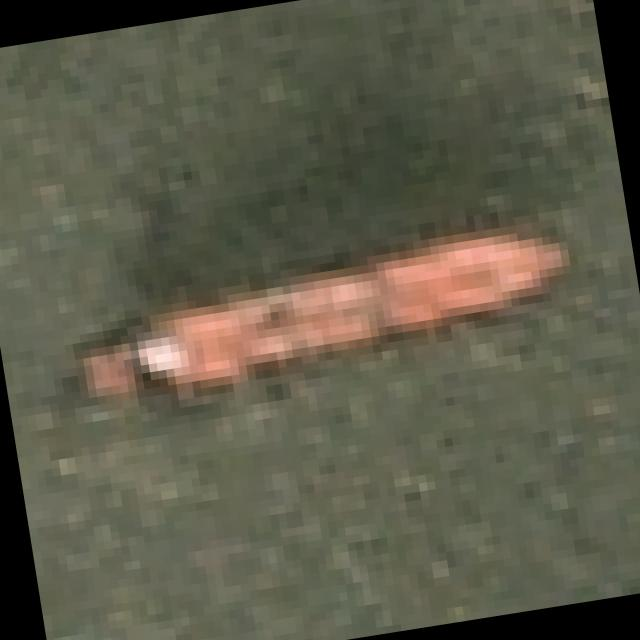ship: (54, 140, 612, 472)
